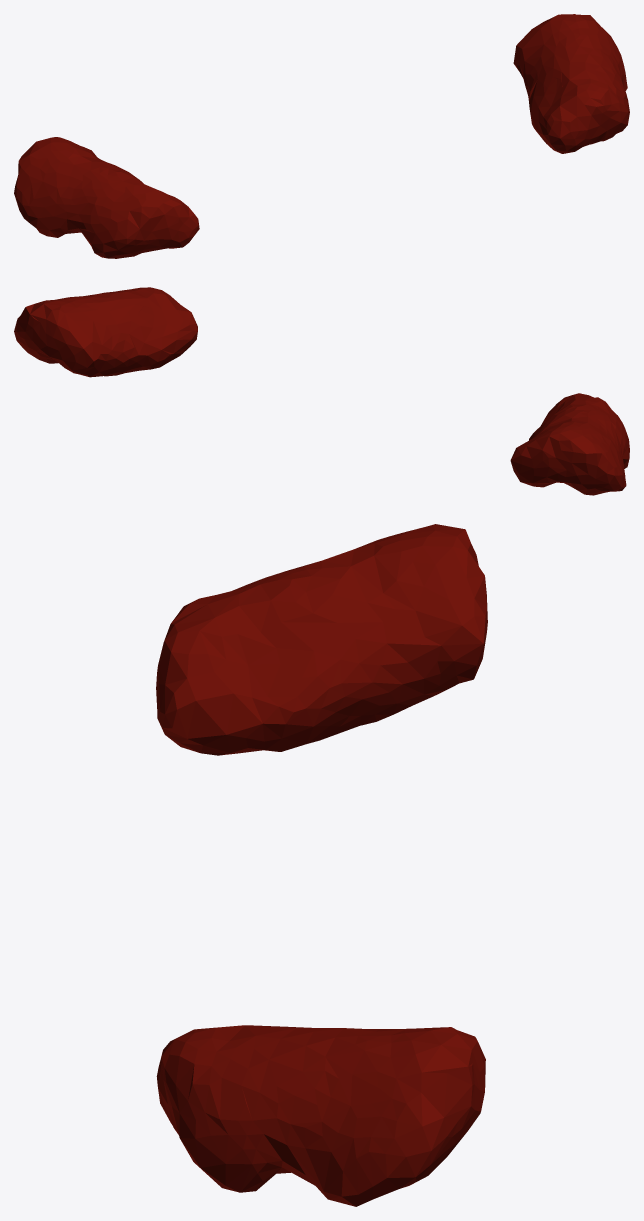
Rendered from 58-9.46V-area 9.46 of cortex, ventral part-('0.4980', '0.0549', '0.0000').obj.
3 views of the same model, one above another, from view 1: azimuth 30°, elevation 25°; view 2: azimuth 150°, elevation 25°; view 3: azimuth 270°, elevation 25° (orthographic). The views are drawn at different scales.
Size of the model in its own units: 253 by 33.8 by 60.39.
